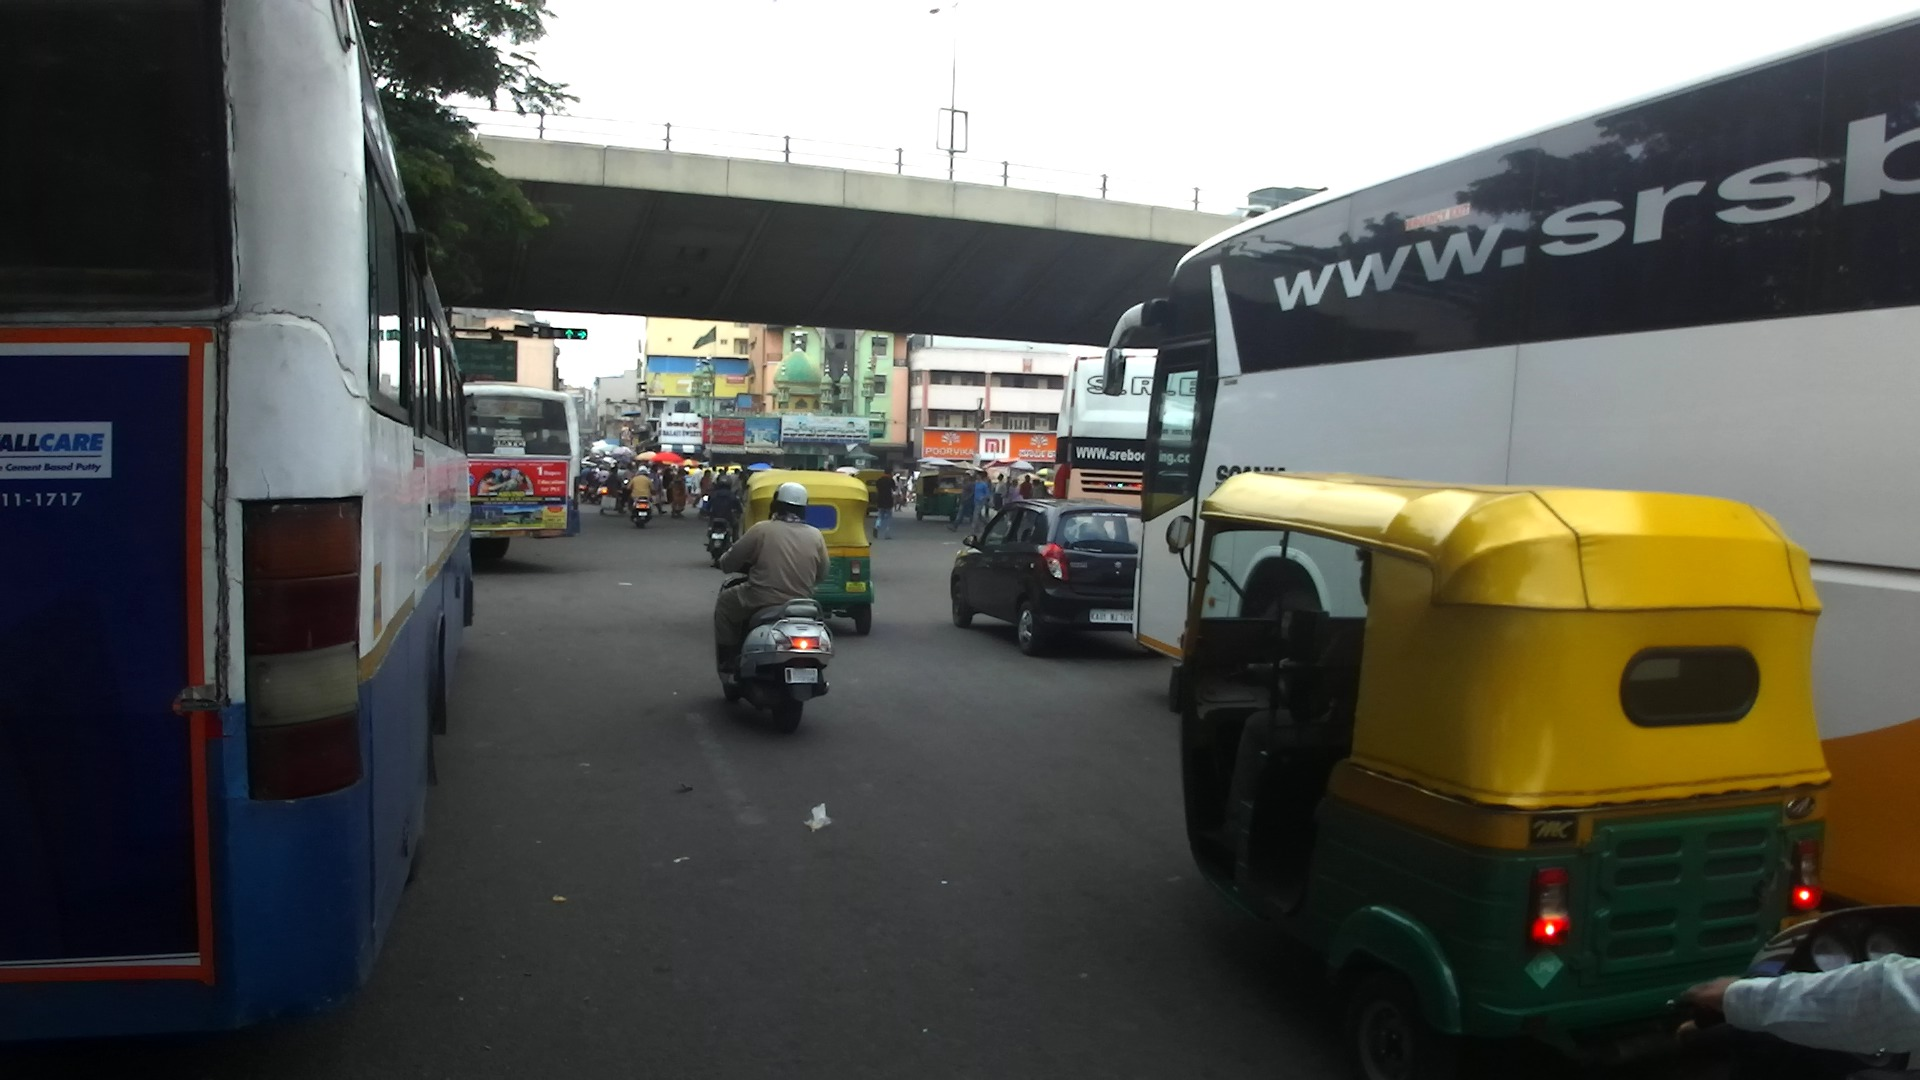autorickshaw: (1162, 472, 1835, 1080), (743, 469, 874, 634), (914, 467, 971, 521), (852, 468, 889, 516)
bus: (1101, 12, 1920, 910), (1, 1, 477, 1043), (461, 383, 581, 561), (1055, 349, 1158, 527), (1006, 475, 1013, 493)
car: (950, 497, 1155, 659)
motorcycle: (1663, 901, 1920, 1080), (714, 557, 833, 733), (702, 494, 738, 570), (626, 478, 656, 528), (603, 477, 629, 515), (579, 481, 593, 503), (596, 485, 611, 503), (587, 487, 598, 505)
person: (873, 468, 898, 540), (946, 471, 975, 531), (971, 471, 991, 531), (650, 462, 667, 516), (672, 466, 687, 520), (699, 470, 715, 516), (992, 472, 1007, 514), (892, 472, 907, 512), (692, 463, 705, 509), (980, 471, 992, 518), (662, 468, 676, 506), (1018, 474, 1034, 498), (1006, 480, 1021, 505), (1032, 479, 1046, 501), (732, 467, 742, 493), (718, 466, 729, 487), (708, 466, 719, 482), (618, 463, 626, 482), (629, 461, 638, 469), (816, 466, 825, 470), (797, 465, 804, 469), (789, 465, 795, 470)
rider: (1683, 954, 1920, 1055), (711, 484, 832, 671), (706, 474, 744, 549), (627, 465, 654, 506), (602, 467, 625, 513), (582, 464, 596, 485), (587, 468, 601, 486), (597, 465, 610, 484)
traffic light: (539, 327, 587, 339), (515, 325, 531, 336)
vehicle fallback: (895, 469, 916, 504), (584, 455, 601, 463), (603, 456, 617, 466)
